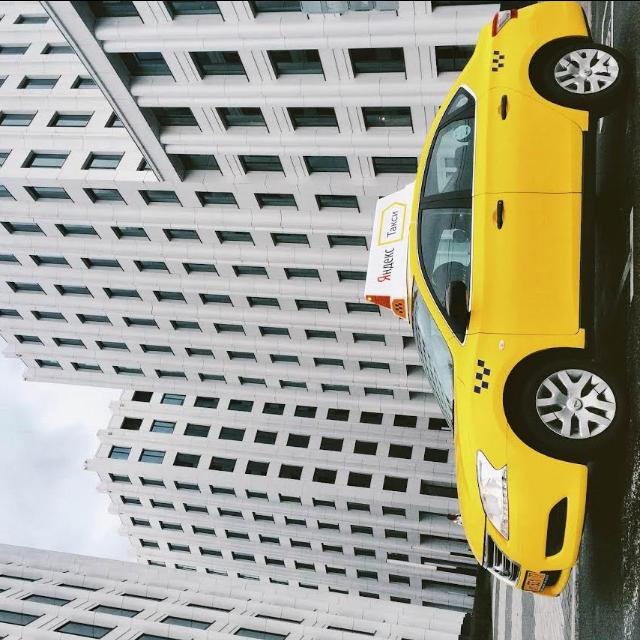taxi: (363, 2, 631, 599)
